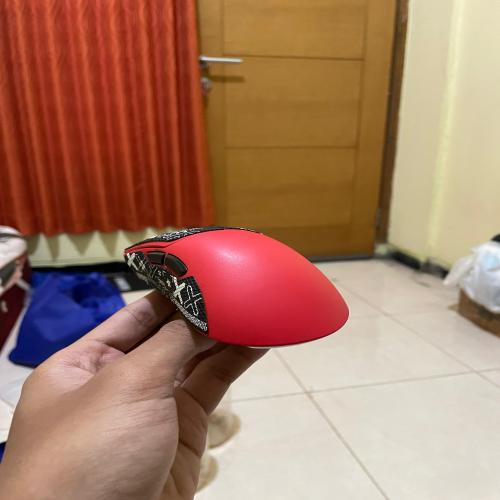mouse: (118, 212, 366, 353)
